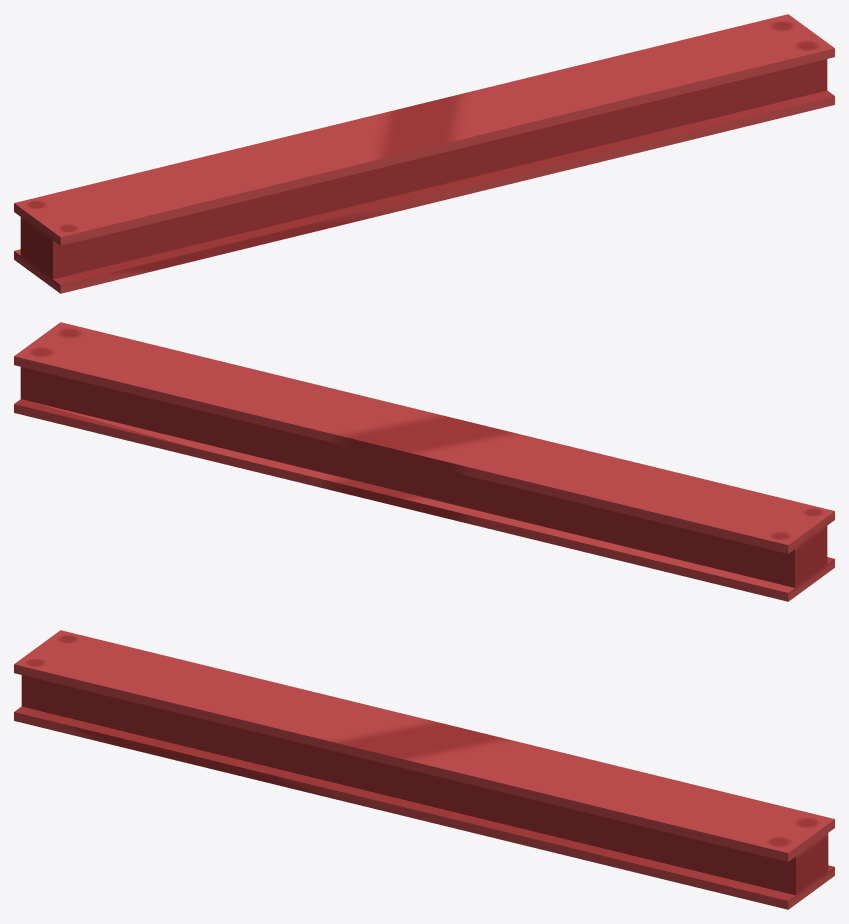
File: Steel Beam.fbx
3 views of the same model, one above another, from view 1: azimuth 30°, elevation 25°; view 2: azimuth 150°, elevation 25°; view 3: azimuth 330°, elevation 25° (orthographic).
Visible parts, largest first — view 1: Cube; view 2: Cube; view 3: Cube.
Part boxes in pixels (x1,y1,x2,y2): Cube: [14, 14, 834, 293]; Cube: [14, 322, 834, 601]; Cube: [14, 630, 834, 909].
Size of the model in its own units: 1917 by 134 by 200.
